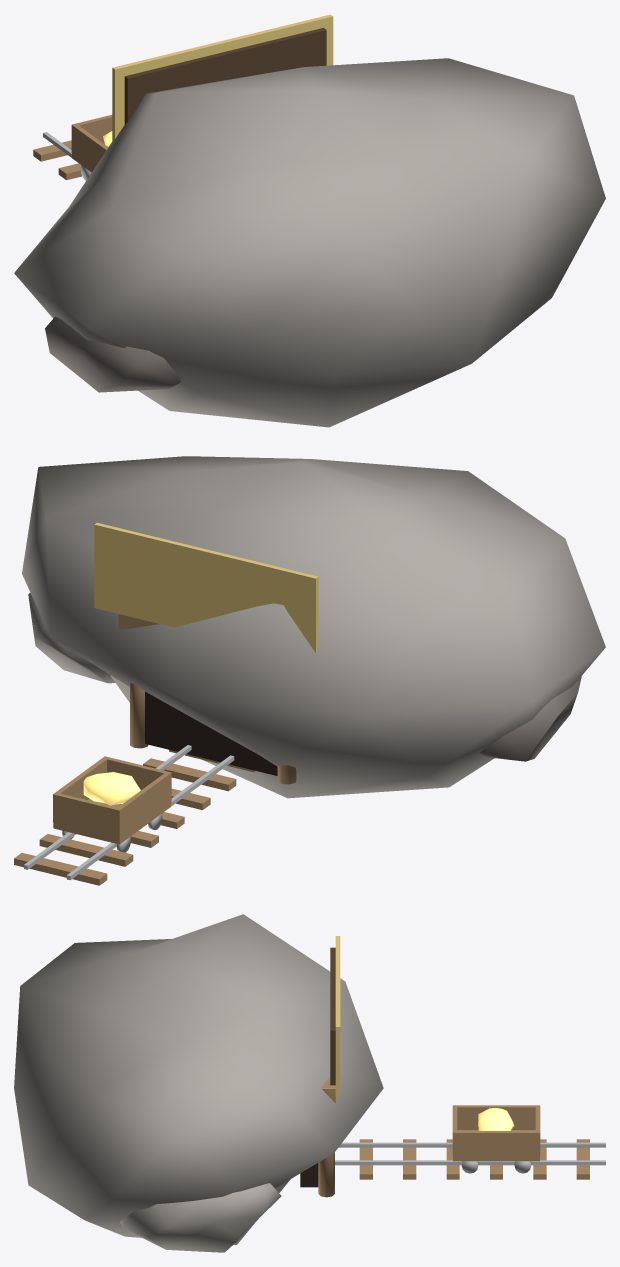
File: GoldMine.glb
The picture shows the model from 3 angles, top to bottom: view 1: azimuth 30°, elevation 25°; view 2: azimuth 150°, elevation 25°; view 3: azimuth 270°, elevation 25°; orthographic projection. The views are drawn at different scales.
Parts seen in each view (by area): view 1: Hill, Sign, HillL, SignFrame, CartSideL, CartBack; view 2: Hill, SignFrame, Mouth, HillL, CartBack, HillR, CartSideL, GoldPile, Tie.005, Tie.006, Tie.001, Rail (+5 smaller); view 3: Hill, HillR, CartSideR, Rail.001, CartSideL, Rail, SignFrame, Sign, GoldPile, PostR, CartBed, Tie.001 (+2 smaller).
Boxes of the visible parts, x1,y1,x2,y2 form: Hill: (14,58,605,427); Sign: (124,28,326,124); HillL: (45,316,180,392); SignFrame: (112,14,333,140); CartSideL: (71,124,108,168); CartBack: (72,115,112,144); Hill: (22,456,605,798); SignFrame: (94,522,318,652); Mouth: (145,691,277,775); HillL: (479,676,581,761); CartBack: (53,792,121,838); HillR: (28,592,115,683); CartSideL: (115,772,171,838); GoldPile: (83,772,140,805); Tie.005: (39,834,133,866); Tie.006: (14,853,107,885); Tie.001: (143,758,236,791); Rail: (66,755,234,880); Hill: (14,914,383,1244); HillR: (120,1183,281,1252); CartSideR: (453,1131,539,1156); Rail.001: (335,1160,605,1165); CartSideL: (453,1105,539,1129); Rail: (338,1142,605,1147); SignFrame: (335,936,340,1096); Sign: (330,947,335,1085); GoldPile: (478,1108,514,1130); PostR: (318,1152,334,1197); CartBed: (453,1130,539,1161); Tie.001: (359,1139,372,1179).
Bounding box in the file's own units: 13.68 × 7.11 × 15.68.
